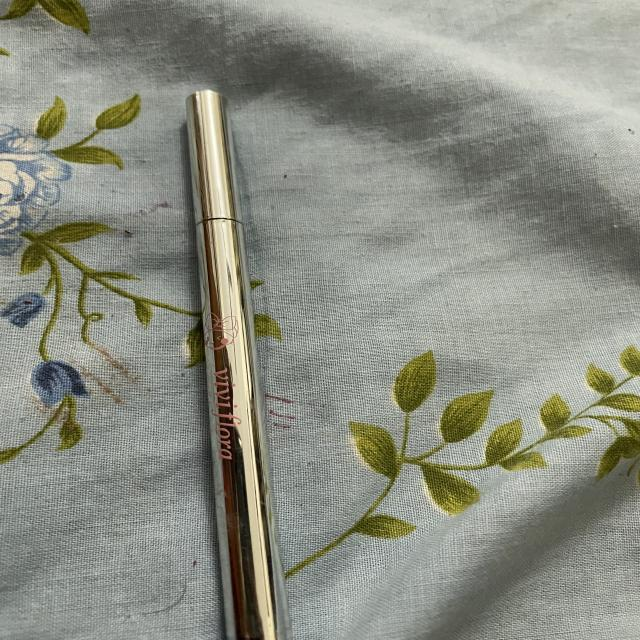eye liner: (171, 81, 302, 640)
